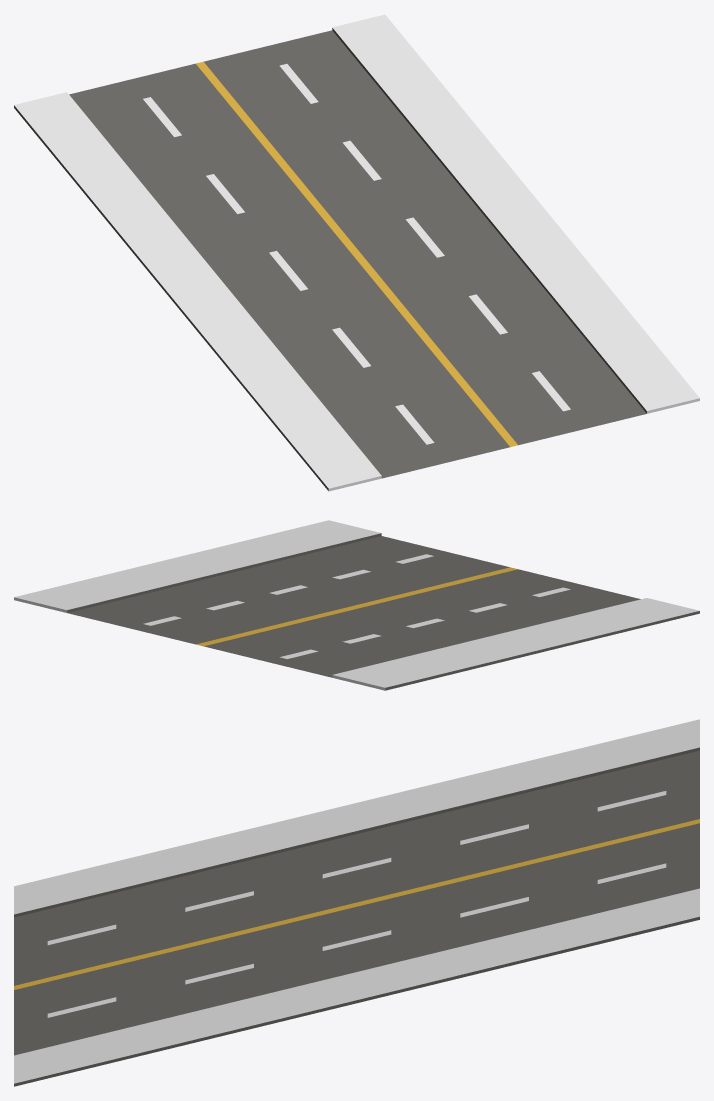
File: Ramp.fbx
The picture shows the model from 3 angles, top to bottom: view 1: azimuth 30°, elevation 25°; view 2: azimuth 150°, elevation 25°; view 3: azimuth 270°, elevation 25°; orthographic projection. The views are drawn at different scales.
Parts seen in each view (by area): view 1: RampV2; view 2: RampV2; view 3: RampV2.
Boxes of the visible parts, x1=… form: RampV2: x1=14, y1=14, x2=699, y2=491; RampV2: x1=14, y1=520, x2=699, y2=690; RampV2: x1=14, y1=719, x2=699, y2=1086.
Bounding box in the file's own units: 1400 × 563 × 2056.
1 material, 1 textured.
